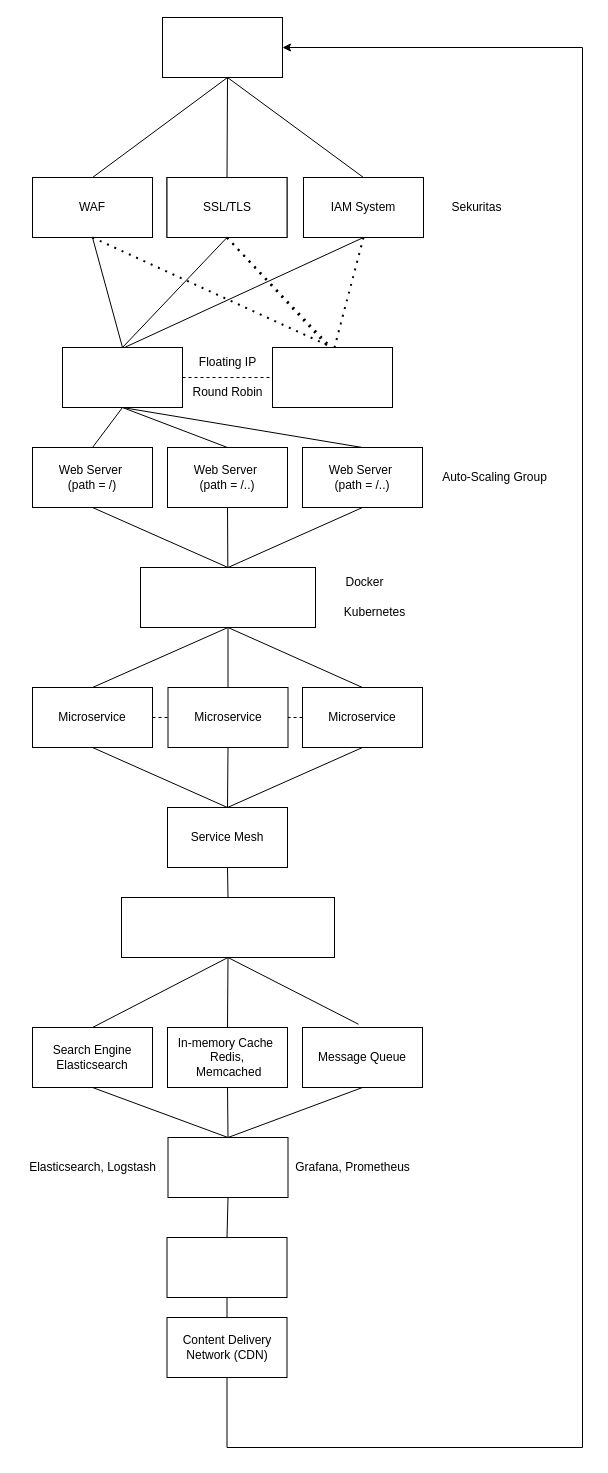
Image size: 608x1473. Some labels were removed from this diagram. The centre of each missing label's shape, as x and y in pixels:
"Autobackup" goes at point 226,1267.
"Client" goes at point 222,47.
"Container Orchestration" goes at point 228,597.
"Database Cluster (MySQL, NoSQL)" goes at point 227,927.
"Load balancer" goes at point 122,377.
"Load balancer Pasif" goes at point 332,377.
"Monitoring dan Logging" goes at point 227,1167.
